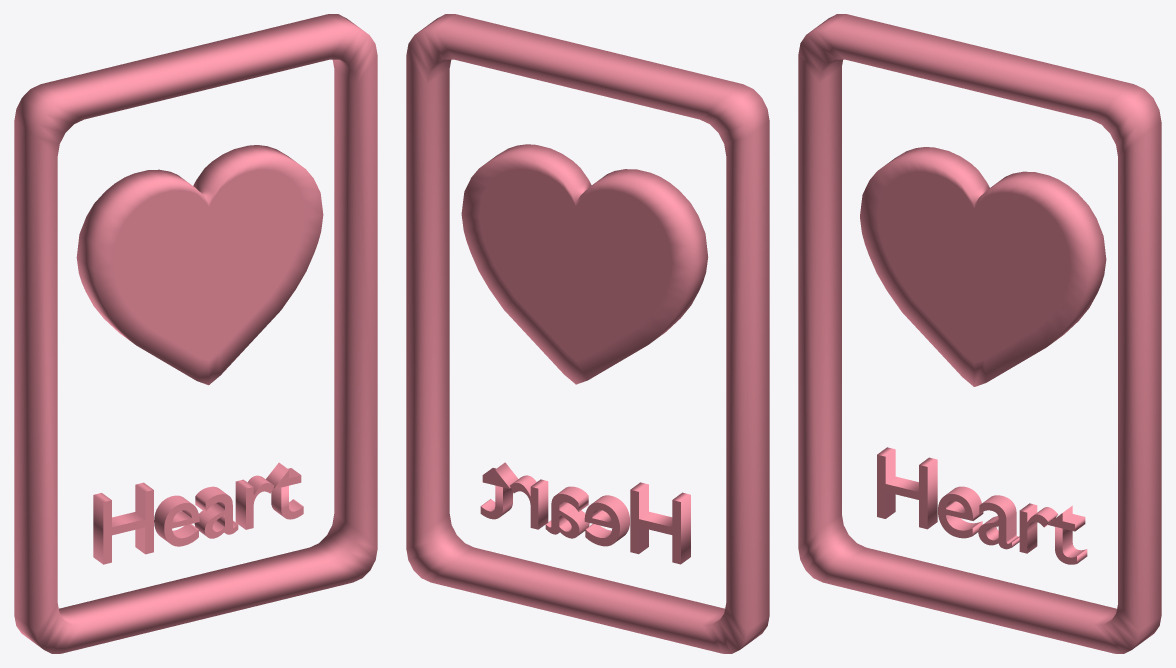
Rendered from Shape_Heart.gltf.
3 views of the same model, side by side, from view 1: azimuth 30°, elevation 25°; view 2: azimuth 150°, elevation 25°; view 3: azimuth 330°, elevation 25° (orthographic).
Visible parts, largest first — view 1: Text.008; view 2: Text.008; view 3: Text.008.
Part boxes in pixels (x1=…): Text.008: x1=14, y1=14, x2=377, y2=653; Text.008: x1=406, y1=14, x2=769, y2=653; Text.008: x1=798, y1=14, x2=1161, y2=653.
Size of the model in its own units: 1 by 1.56 by 0.1143.
